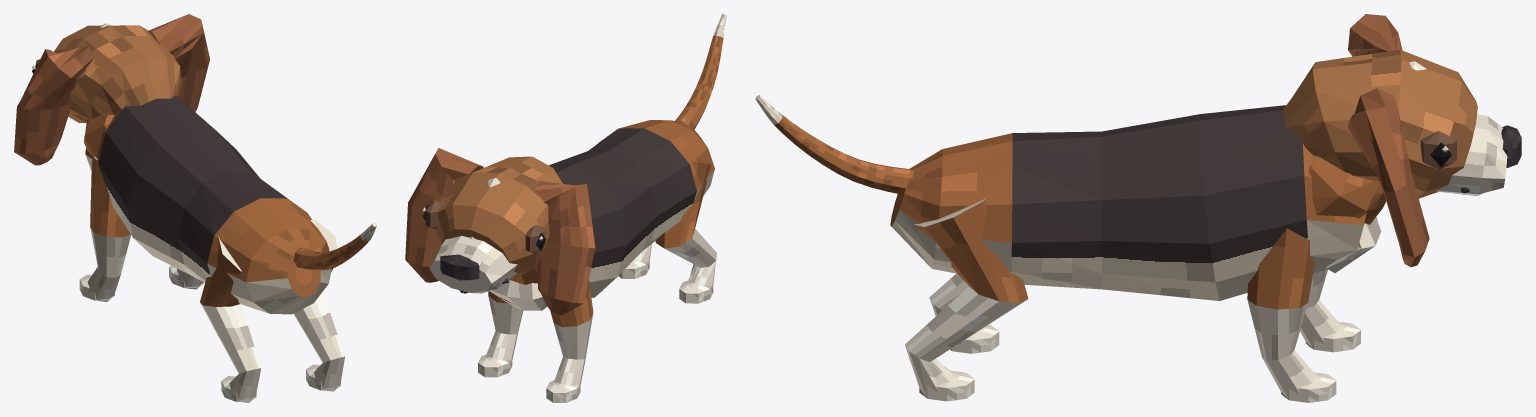
Rendered from mon_dog_beagle_pup.glb.
3 renders of one model, left to right at view 1: azimuth 30°, elevation 25°; view 2: azimuth 150°, elevation 25°; view 3: azimuth 270°, elevation 25°, orthographic. The views are drawn at different scales.
Parts seen in each view (by area): view 1: closed_body; view 2: closed_body; view 3: closed_body.
Boxes of the visible parts, x1=… form: closed_body: x1=14, y1=14, x2=376, y2=402; closed_body: x1=405, y1=14, x2=726, y2=402; closed_body: x1=755, y1=14, x2=1521, y2=402.
Bounding box in the file's own units: 0.1484 × 0.1786 × 0.3927.
1 material, 1 textured.
